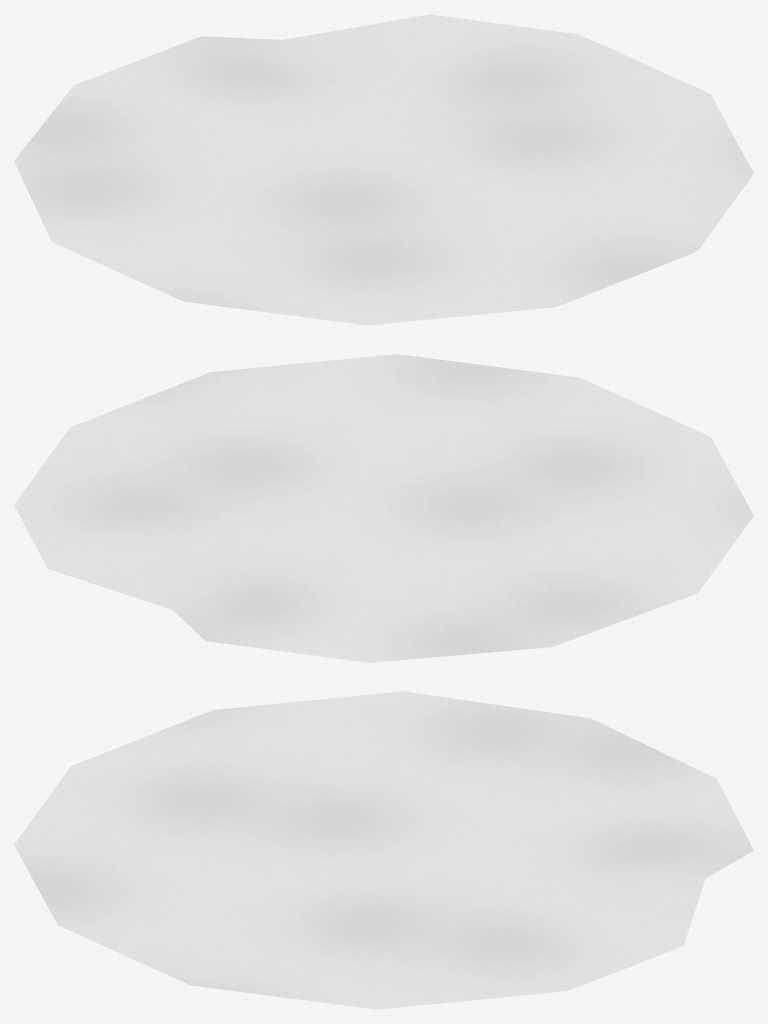
Rendered from mirror00.dae.
The picture shows the model from 3 angles, top to bottom: view 1: azimuth 30°, elevation 25°; view 2: azimuth 150°, elevation 25°; view 3: azimuth 270°, elevation 25°; orthographic projection.
Visible parts, largest first — view 1: m0; view 2: m0; view 3: m0.
Part boxes in pixels (x1,y1,x2,y2): m0: (14,14,753,325); m0: (14,354,753,662); m0: (14,691,753,1009).
Size of the model in its own units: 5700 by 0 by 5600.
